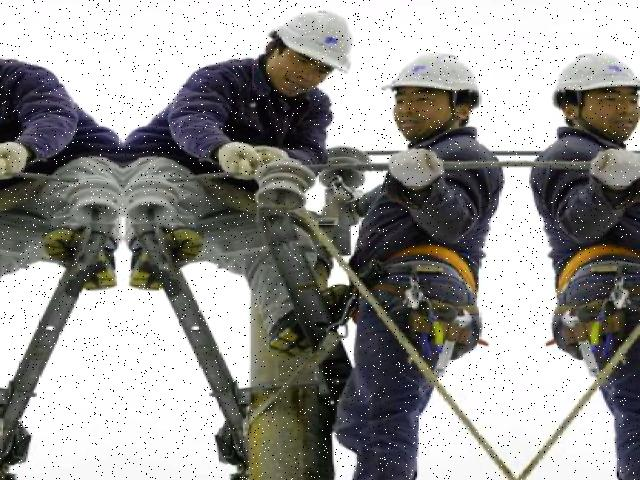Helmet: (378, 47, 488, 114), (268, 6, 358, 80), (549, 46, 640, 112)
